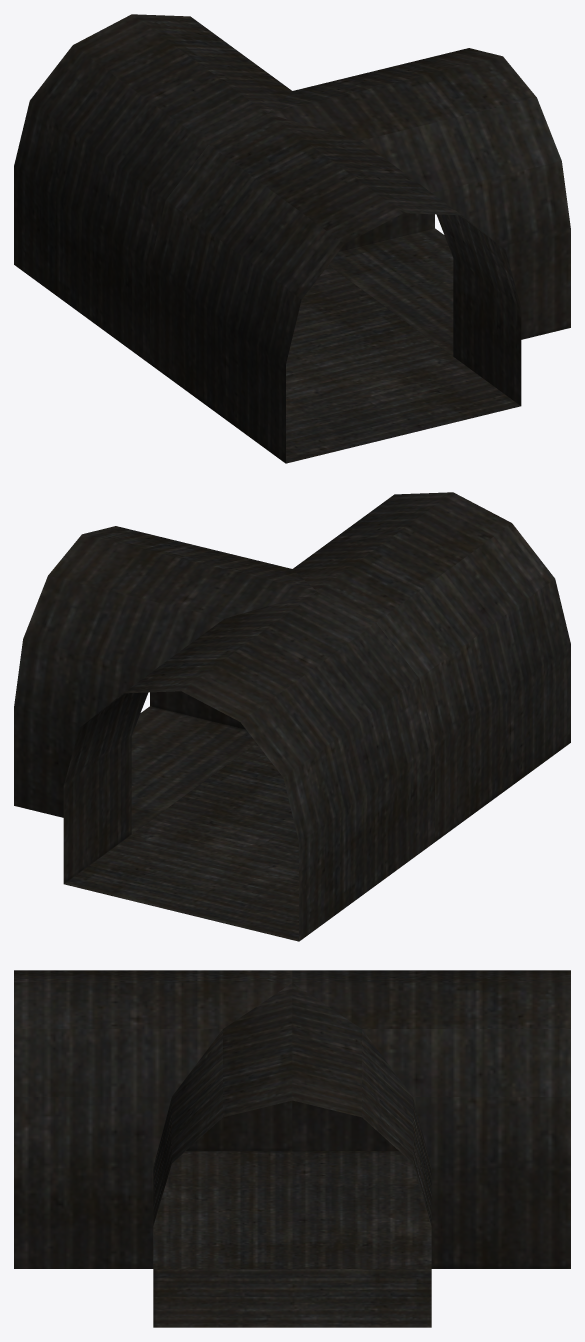
Rendered from tunnel_1_equal_tee.obj.
3 views of the same model, one above another, from view 1: azimuth 30°, elevation 25°; view 2: azimuth 150°, elevation 25°; view 3: azimuth 270°, elevation 25° (orthographic). The views are drawn at different scales.
Parts seen in each view (by area): view 1: tunnel_1_equal_tee; view 2: tunnel_1_equal_tee; view 3: tunnel_1_equal_tee.
Boxes of the visible parts, x1=… form: tunnel_1_equal_tee: x1=14, y1=14, x2=570, y2=463; tunnel_1_equal_tee: x1=14, y1=492, x2=570, y2=941; tunnel_1_equal_tee: x1=14, y1=970, x2=570, y2=1327.
Size of the model in its own units: 3 by 1.8 by 4.
